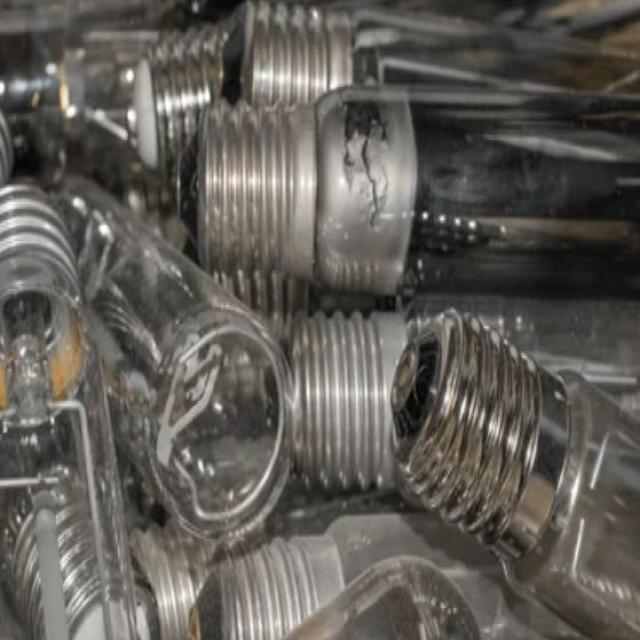electronic: (0, 0, 639, 638), (48, 168, 295, 544), (388, 305, 639, 638), (0, 177, 151, 638), (194, 80, 419, 303)
